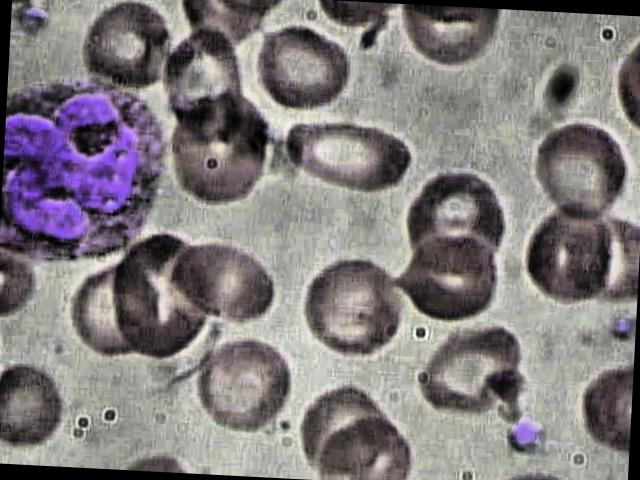Platelets: (502, 415, 550, 458), (15, 0, 52, 27), (606, 314, 636, 346)
RBC: (408, 309, 534, 418), (523, 114, 640, 230), (274, 110, 428, 198), (391, 224, 512, 330), (298, 250, 409, 361), (245, 20, 369, 115), (522, 195, 618, 312), (162, 241, 292, 327), (190, 330, 298, 432), (72, 0, 181, 101), (0, 353, 79, 455), (316, 409, 420, 480)
WBC: (0, 75, 176, 280)
